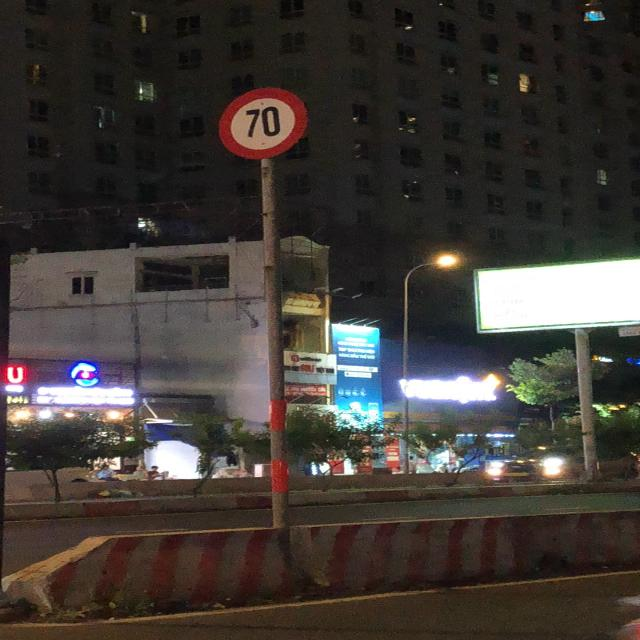Bien bao toc do toi da cho phep: (210, 85, 311, 160)
